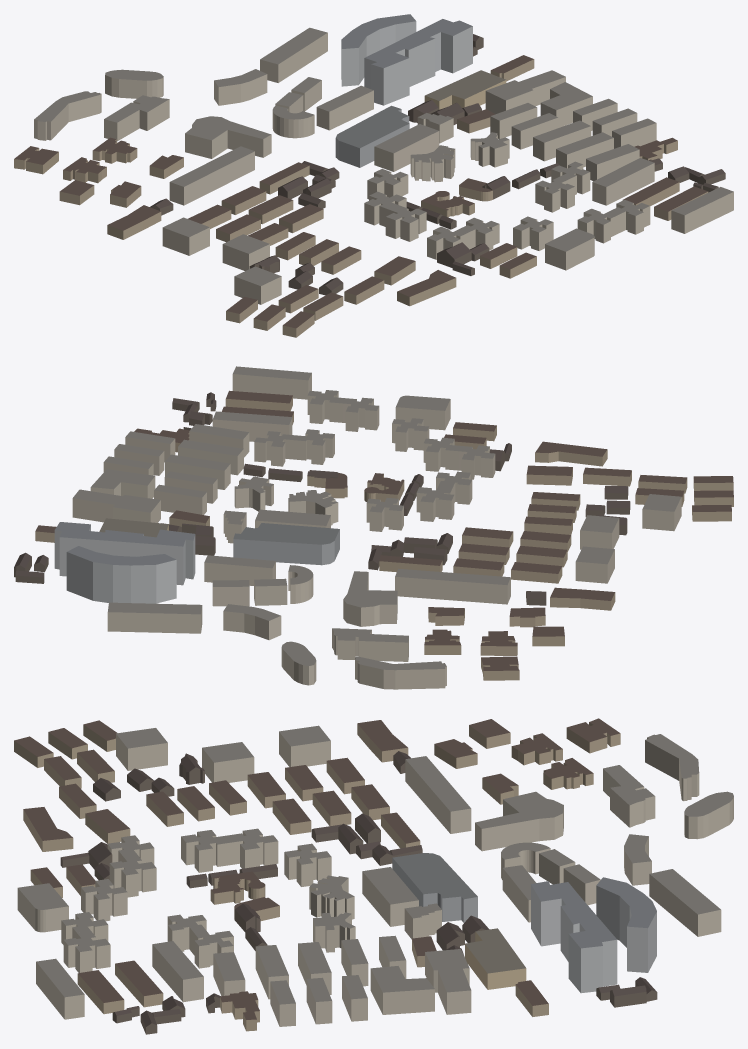
Rendered from tile_5_3.glb.
The picture shows the model from 3 angles, top to bottom: view 1: azimuth 30°, elevation 25°; view 2: azimuth 150°, elevation 25°; view 3: azimuth 270°, elevation 25°; orthographic projection. The views are drawn at different scales.
Parts seen in each view (by area): view 1: HP-w731233912, HP-w731233911, HP-w1512461406, HP-w1512530031, HP-w859488773, HP-w859488785, HP-w1512800277, HP-w1512530032, HP-w1512461405, HP-w1512800273, HP-w1286957247, HP-w1286957250 (+67 smaller); view 2: HP-w731233911, HP-w731233912, HP-w1512530031, HP-w859488773, HP-w859488785, HP-w1512800273, HP-w1512800277, HP-w1512461406, HP-w1512461405, HP-w1286957250, HP-w859488777, HP-w859488784 (+62 smaller); view 3: HP-w731233912, HP-w731233911, HP-w1512461406, HP-w1512530031, HP-w859488785, HP-w859488773, HP-w534130925, HP-w1512800282, HP-w1512800277, HP-w1512461405, HP-w1512530032, HP-w1512800273 (+71 smaller).
Boxes of the visible parts, left/top/right/bottom form: HP-w731233912: left=364, top=19, right=472, bottom=105; HP-w731233911: left=341, top=14, right=416, bottom=86; HP-w1512461406: left=185, top=116, right=271, bottom=158; HP-w1512530031: left=335, top=105, right=409, bottom=167; HP-w859488773: left=169, top=146, right=254, bottom=205; HP-w859488785: left=260, top=27, right=327, bottom=82; HP-w1512800277: left=485, top=70, right=565, bottom=114; HP-w1512530032: left=374, top=124, right=439, bottom=171; HP-w1512461405: left=104, top=95, right=169, bottom=141; HP-w1512800273: left=34, top=91, right=101, bottom=140; HP-w1286957247: left=592, top=158, right=654, bottom=205; HP-w1286957250: left=671, top=187, right=733, bottom=233; HP-w731233911: left=66, top=546, right=176, bottom=603; HP-w731233912: left=54, top=522, right=195, bottom=585; HP-w1512530031: left=233, top=523, right=339, bottom=565; HP-w859488773: left=395, top=568, right=510, bottom=604; HP-w859488785: left=107, top=602, right=202, bottom=633; HP-w1512800273: left=355, top=656, right=446, bottom=689; HP-w1512800277: left=72, top=489, right=160, bottom=522; HP-w1512461406: left=343, top=571, right=397, bottom=626; HP-w1512461405: left=332, top=628, right=408, bottom=661; HP-w1286957250: left=232, top=366, right=311, bottom=399; HP-w859488777: left=204, top=555, right=275, bottom=585; HP-w859488784: left=223, top=604, right=281, bottom=640; HP-w731233912: left=531, top=881, right=617, bottom=993; HP-w731233911: left=596, top=877, right=656, bottom=972; HP-w1512461406: left=475, top=791, right=563, bottom=851; HP-w1512530031: left=392, top=853, right=477, bottom=922; HP-w859488785: left=649, top=869, right=721, bottom=936; HP-w859488773: left=405, top=756, right=471, bottom=833; HP-w534130925: left=465, top=928, right=526, bottom=989; HP-w1512800282: left=370, top=966, right=434, bottom=1014; HP-w1512800277: left=425, top=949, right=471, bottom=1014; HP-w1512461405: left=603, top=765, right=655, bottom=827; HP-w1512530032: left=362, top=867, right=418, bottom=926; HP-w1512800273: left=645, top=734, right=699, bottom=801.
Bounding box in the file's own units: 526 × 36 × 524.
